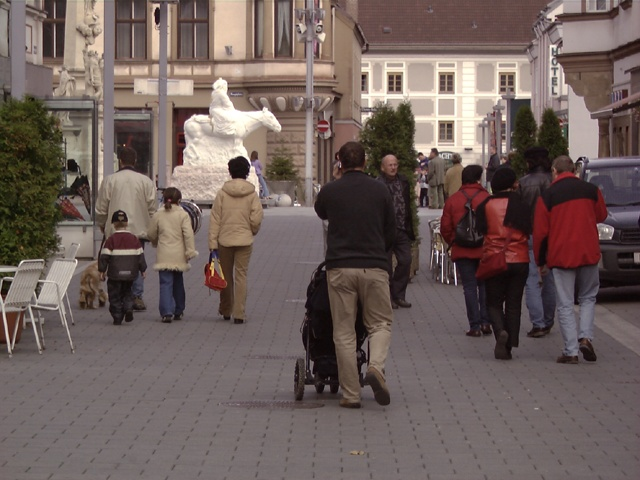person: (312, 138, 396, 406), (530, 153, 607, 363), (93, 141, 157, 312), (206, 153, 264, 321), (442, 156, 495, 337), (482, 170, 524, 358), (146, 184, 197, 321), (98, 208, 142, 320)
